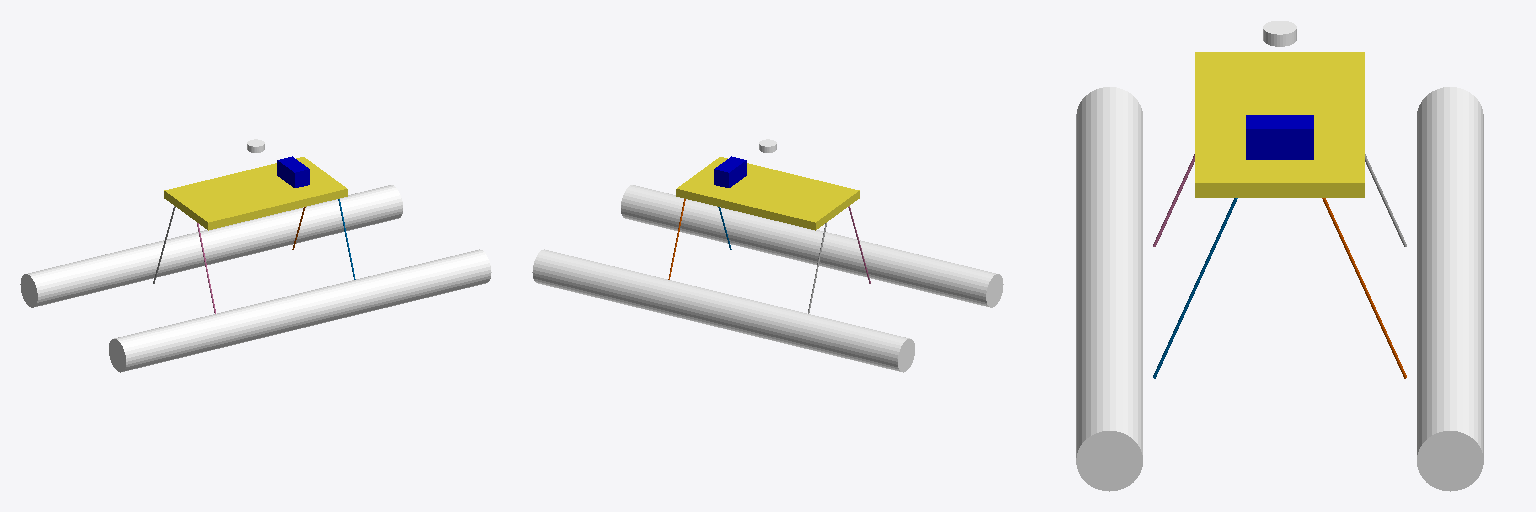
--- What the picture shows (computed from the rendered views, not written in the file) ---
3 views of the same robot in one strip: view 1: azimuth 30°, elevation 25°; view 2: azimuth 150°, elevation 25°; view 3: azimuth 270°, elevation 25° (orthographic).
Model robotx with 21 links and 20 joints (20 fixed), rooted at base_link, posed every joint at zero.
Links seen in each view (by area): view 1: left_bouy_link, right_bouy_link, shelf_link, sensor_box_link; view 2: right_bouy_link, left_bouy_link, shelf_link, sensor_box_link; view 3: left_bouy_link, right_bouy_link, shelf_link, sensor_box_link, gps_link, front_left_bar_link, front_right_bar_link.
Link boxes in pixels (box(x1,y1,x2,y2)): left_bouy_link: box(109, 249, 491, 372); right_bouy_link: box(20, 185, 402, 307); shelf_link: box(164, 157, 347, 230); sensor_box_link: box(277, 156, 309, 187); right_bouy_link: box(532, 249, 914, 372); left_bouy_link: box(621, 185, 1003, 307); shelf_link: box(676, 157, 859, 230); sensor_box_link: box(714, 156, 746, 187); left_bouy_link: box(1076, 87, 1142, 491); right_bouy_link: box(1417, 87, 1483, 491); shelf_link: box(1195, 52, 1364, 197); sensor_box_link: box(1246, 115, 1313, 159); gps_link: box(1263, 21, 1296, 46); front_left_bar_link: box(1153, 198, 1237, 378); front_right_bar_link: box(1322, 198, 1406, 378).
Size in the robot's own frame: 4.85 by 2.43 by 1.92 metres.
Meshes: 1 distinct files referenced, 0 mesh visuals loaded (none loaded); not drawn: 6 (reference not matched to a file when rendering).

URDF robot description (robotx):
<?xml version="1.0" ?>
<!-- =================================================================================== -->
<!-- |    This document was autogenerated by xacro from robotx_standard.urdf.xacro     | -->
<!-- |    EDITING THIS FILE BY HAND IS NOT RECOMMENDED                                 | -->
<!-- =================================================================================== -->
<!-- Revolute-Revolute Manipulator -->
<robot name="robotx" xmlns:xacro="http://ros.org/wiki/xacro">
  <!-- Constants for robot dimensions -->
  <!-- Import all Gazebo-customization elements, including Gazebo colors -->
  <material name="black">
    <color rgba="0.0 0.0 0.0 1.0"/>
  </material>
  <material name="blue">
    <color rgba="0.0 0.0 0.8 1.0"/>
  </material>
  <material name="green">
    <color rgba="0.0 0.8 0.0 1.0"/>
  </material>
  <material name="gray">
    <color rgba="0.2 0.2 0.2 1.0"/>
  </material>
  <material name="grey">
    <color rgba="0.2 0.2 0.2 1.0"/>
  </material>
  <material name="orange">
    <color rgba="1.0 0.423529411765 0.0392156862745 1.0"/>
  </material>
  <material name="brown">
    <color rgba="0.870588235294 0.811764705882 0.764705882353 1.0"/>
  </material>
  <material name="red">
    <color rgba="0.8 0.0 0.0 1.0"/>
  </material>
  <material name="white">
    <color rgba="1.0 1.0 1.0 1.0"/>
  </material>
  <!-- Constants for robot dimensions -->
  <!-- Import all Gazebo-customization elements, including Gazebo colors -->
  <!--xacro:include filename="materials.xacro" /-->
  <!-- macro for bouys -->
  <!-- support bars -->
  <!-- Base Link -->
  <link name="base_link">
    <collision>
      <origin rpy="0 0 0" xyz="0 0 0"/>
      <geometry>
        <box size="4.85 2.43 0.01"/>
      </geometry>
    </collision>
  </link>
  <!-- left bouy joint -->
  <joint name="left_bouy_joint" type="fixed">
    <parent link="base_link"/>
    <child link="left_bouy_link"/>
    <origin rpy="0 0 0" xyz="0 -1.015 0.2"/>
  </joint>
  <!-- left bouy Link -->
  <link name="left_bouy_link">
    <collision>
      <origin rpy="0 1.57079632679 0" xyz="0 0 0"/>
      <geometry>
        <cylinder length="4.85" radius="0.2"/>
      </geometry>
    </collision>
    <visual>
      <origin rpy="0 1.57079632679  0" xyz="0 0 0"/>
      <geometry>
        <cylinder length="4.85" radius="0.2"/>
      </geometry>
      <material name="white"/>
    </visual>
    <inertial>
      <mass value="35"/>
      <inertia ixx="69.2731666667" ixy="0.0" ixz="0.0" iyy="69.2731666667" iyz="0.0" izz="0.665875"/>
    </inertial>
  </link>
  <!-- right bouy joint -->
  <joint name="right_bouy_joint" type="fixed">
    <parent link="base_link"/>
    <child link="right_bouy_link"/>
    <origin rpy="0 0 0" xyz="0 1.015 0.2"/>
  </joint>
  <!-- right bouy Link -->
  <link name="right_bouy_link">
    <collision>
      <origin rpy="0 1.57079632679 0" xyz="0 0 0"/>
      <geometry>
        <cylinder length="4.85" radius="0.2"/>
      </geometry>
    </collision>
    <visual>
      <origin rpy="0 1.57079632679  0" xyz="0 0 0"/>
      <geometry>
        <cylinder length="4.85" radius="0.2"/>
      </geometry>
      <material name="white"/>
    </visual>
    <inertial>
      <mass value="35"/>
      <inertia ixx="69.2731666667" ixy="0.0" ixz="0.0" iyy="69.2731666667" iyz="0.0" izz="0.665875"/>
    </inertial>
  </link>
  <!-- platform joint-->
  <joint name="shelf_joint" type="fixed">
    <parent link="base_link"/>
    <child link="shelf_link"/>
    <origin rpy="0 0 0" xyz="0 0 1.28"/>
  </joint>
  <!-- platform -->
  <link name="shelf_link">
    <collision>
      <origin rpy="0 0 0" xyz="0 0 0"/>
      <geometry>
        <box size="1.85 1.01 0.1"/>
      </geometry>
    </collision>
    <visual>
      <origin rpy="0 0 0" xyz="0 0 0"/>
      <geometry>
        <box size="1.85 1.01 0.1"/>
      </geometry>
      <material name="yellow"/>
    </visual>
    <inertial>
      <origin rpy="0 0 0" xyz="0 0 0"/>
      <mass value="84"/>
      <inertia ixx="24.0275" ixy="0.0" ixz="0.0" iyy="31.0982" iyz="0.0" izz="7.2107"/>
    </inertial>
  </link>
  <!-- bars -->
  <joint name="front_left_bar_joint" type="fixed">
    <parent link="shelf_link"/>
    <child link="front_left_bar_link"/>
    <origin rpy="0 0 0" xyz="0 0 -0.64"/>
  </joint>
  <link name="front_left_bar_link">
    <collision>
      <origin rpy="-0.392699081699 0 0" xyz="0.925 -0.505 0"/>
      <geometry>
        <cylinder length="1.28" radius="0.01"/>
      </geometry>
    </collision>
    <visual>
      <origin rpy="-0.392699081699 0 0" xyz="0.925 -0.505 0"/>
      <geometry>
        <cylinder length="1.28" radius="0.01"/>
      </geometry>
    </visual>
  </link>
  <joint name="front_right_bar_joint" type="fixed">
    <parent link="shelf_link"/>
    <child link="front_right_bar_link"/>
    <origin rpy="0 0 0" xyz="0 0 -0.64"/>
  </joint>
  <link name="front_right_bar_link">
    <collision>
      <origin rpy="0.392699081699 0 0" xyz="0.925 0.505 0"/>
      <geometry>
        <cylinder length="1.28" radius="0.01"/>
      </geometry>
    </collision>
    <visual>
      <origin rpy="0.392699081699 0 0" xyz="0.925 0.505 0"/>
      <geometry>
        <cylinder length="1.28" radius="0.01"/>
      </geometry>
    </visual>
  </link>
  <joint name="rear_left_bar_joint" type="fixed">
    <parent link="shelf_link"/>
    <child link="rear_left_bar_link"/>
    <origin rpy="0 0 0" xyz="0 0 -0.64"/>
  </joint>
  <link name="rear_left_bar_link">
    <collision>
      <origin rpy="-0.392699081699 0 0" xyz="-0.925 -0.505 0"/>
      <geometry>
        <cylinder length="1.28" radius="0.01"/>
      </geometry>
    </collision>
    <visual>
      <origin rpy="-0.392699081699 0 0" xyz="-0.925 -0.505 0"/>
      <geometry>
        <cylinder length="1.28" radius="0.01"/>
      </geometry>
    </visual>
  </link>
  <joint name="rear_right_bar_joint" type="fixed">
    <parent link="shelf_link"/>
    <child link="rear_right_bar_link"/>
    <origin rpy="0 0 0" xyz="0 0 -0.64"/>
  </joint>
  <link name="rear_right_bar_link">
    <collision>
      <origin rpy="0.392699081699 0 0" xyz="-0.925 0.505 0"/>
      <geometry>
        <cylinder length="1.28" radius="0.01"/>
      </geometry>
    </collision>
    <visual>
      <origin rpy="0.392699081699 0 0" xyz="-0.925 0.505 0"/>
      <geometry>
        <cylinder length="1.28" radius="0.01"/>
      </geometry>
    </visual>
  </link>
  <!-- sensor box joint-->
  <joint name="sensor_box_joint" type="fixed">
    <parent link="shelf_link"/>
    <child link="sensor_box_link"/>
    <origin rpy="0 0 0" xyz="0.5 0 0.15"/>
  </joint>
  <!-- sensor box -->
  <link name="sensor_box_link">
    <collision>
      <origin rpy="0 0 0" xyz="0 0 0"/>
      <geometry>
        <box size="0.2 0.4 0.2"/>
      </geometry>
    </collision>
    <visual>
      <origin rpy="0 0 0" xyz="0 0 0"/>
      <geometry>
        <box size="0.2 0.4 0.2"/>
      </geometry>
      <material name="blue"/>
    </visual>
    <inertial>
      <origin rpy="0 0 0" xyz="0 0 0"/>
      <mass value="0.5"/>
      <inertia ixx="0.00333333333333" ixy="0.0" ixz="0.0" iyy="0.00833333333333" iyz="0.0" izz="0.00833333333333"/>
    </inertial>
  </link>
  <gazebo>
    <plugin filename="libgazebo_ros_planar_move.so" name="object_controller">
      <commandTopic>cmd_vel</commandTopic>
      <odometryTopic>odom/gazebo</odometryTopic>
      <odometryFrame>odom</odometryFrame>
      <odometryRate>20.0</odometryRate>
      <robotBaseFrame>base_link</robotBaseFrame>
    </plugin>
  </gazebo>
  <!-- base_link -->
  <gazebo reference="base_link">
    <material>Gazebo/Green</material>
    <turnGravityOff>false</turnGravityOff>
  </gazebo>
  <gazebo reference="left_bouy_link">
    <material>Gazebo/Grey</material>
  </gazebo>
  <gazebo reference="right_bouy_link">
    <material>Gazebo/Grey</material>
  </gazebo>
  <gazebo reference="shelf_link">
    <material>Gazebo/Black</material>
  </gazebo>
  <!-- sensor box -->
  <gazebo reference="sensor_box_link">
    <material>Gazebo/Yellow</material>
  </gazebo>
  <!-- camera array joint -->
  <!-- Set up camera linkage and configuration -->
  <joint name="gps_joint" type="fixed">
    <origin rpy="0 0 0" xyz="0 0 0.6"/>
    <parent link="shelf_link"/>
    <child link="gps_link"/>
  </joint>
  <link name="gps_link">
    <visual>
      <origin rpy="0 0 0" xyz="0 0 0"/>
      <geometry>
        <cylinder length="0.08" radius="0.1"/>
      </geometry>
      <material name="white"/>
    </visual>
    <collision>
      <origin rpy="0 0 0" xyz="0 0 0"/>
      <geometry>
        <cylinder length="0.08" radius="0.1"/>
      </geometry>
    </collision>
  </link>
  <joint name="imu_array_joint" type="fixed">
    <origin rpy="0 0 0" xyz="0 0 0"/>
    <parent link="shelf_link"/>
    <child link="imu_array_link"/>
  </joint>
  <link name="imu_array_link"/>
  <joint name="middle_middle_imu_joint" type="fixed">
    <origin rpy="0 0 0" xyz="0 0 0.05"/>
    <parent link="imu_array_link"/>
    <child link="middle_middle_imu_link"/>
  </joint>
  <link name="middle_middle_imu_link"/>
  <!--xacro:imu position1="front" position2="left" x="${shelf_length/2}" y="-${shelf_width/2}" />
    <xacro:imu position1="front" position2="right" x="${shelf_length/2}" y="-${shelf_width/2}" />
    <xacro:imu position1="rear" position2="left" x="${shelf_length/2}" y="-${shelf_width/2}" />
    <xacro:imu position1="rear" position2="right" x="${shelf_length/2}" y="-${shelf_width/2}" /-->
  <joint name="bow_camera_array_joint" type="fixed">
    <origin rpy="0 0 0" xyz="0 0 0"/>
    <parent link="shelf_link"/>
    <child link="bow_stereo/camera_link"/>
  </joint>
  <link name="bow_stereo/camera_link"/>
  <joint name="port_camera_array_joint" type="fixed">
    <origin rpy="0 0 0" xyz="0 0 0"/>
    <parent link="shelf_link"/>
    <child link="port_stereo/camera_link"/>
  </joint>
  <link name="port_stereo/camera_link"/>
  <joint name="starboard_camera_array_joint" type="fixed">
    <origin rpy="0 0 0" xyz="0 0 0"/>
    <parent link="shelf_link"/>
    <child link="starboard_stereo/camera_link"/>
  </joint>
  <link name="starboard_stereo/camera_link"/>
  <joint name="bow_left_camera_joint" type="fixed">
    <origin rpy="0 0 0" xyz="0.925 -0.505 0.55"/>
    <parent link="bow_stereo/camera_link"/>
    <child link="bow_stereo/left/camera_link"/>
  </joint>
  <link name="bow_stereo/left/camera_link">
    <visual>
      <origin rpy="0 0 0" xyz="0 0 0"/>
      <geometry>
        <mesh filename="package://hector_sensors_description/meshes/thermaleye_camera/thermaleye_camera_hector_v2.dae"/>
      </geometry>
    </visual>
    <collision>
      <origin rpy="0 0 0" xyz="0 0 0"/>
      <geometry>
        <mesh filename="package://hector_sensors_description/meshes/thermaleye_camera/thermaleye_camera_hector_v2.stl"/>
      </geometry>
    </collision>
  </link>
  <joint name="bow_right_camera_joint" type="fixed">
    <origin rpy="0 0 0" xyz="0.925 0.505 0.55"/>
    <parent link="bow_stereo/camera_link"/>
    <child link="bow_stereo/right/camera_link"/>
  </joint>
  <link name="bow_stereo/right/camera_link">
    <visual>
      <origin rpy="0 0 0" xyz="0 0 0"/>
      <geometry>
        <mesh filename="package://hector_sensors_description/meshes/thermaleye_camera/thermaleye_camera_hector_v2.dae"/>
      </geometry>
    </visual>
    <collision>
      <origin rpy="0 0 0" xyz="0 0 0"/>
      <geometry>
        <mesh filename="package://hector_sensors_description/meshes/thermaleye_camera/thermaleye_camera_hector_v2.stl"/>
      </geometry>
    </collision>
  </link>
  <joint name="port_left_camera_joint" type="fixed">
    <origin rpy="0 0 -1.57079632679" xyz="-0.925 -0.505 0.15"/>
    <parent link="port_stereo/camera_link"/>
    <child link="port_stereo/left/camera_link"/>
  </joint>
  <link name="port_stereo/left/camera_link">
    <visual>
      <origin rpy="0 0 0" xyz="0 0 0"/>
      <geometry>
        <mesh filename="package://hector_sensors_description/meshes/thermaleye_camera/thermaleye_camera_hector_v2.dae"/>
      </geometry>
    </visual>
    <collision>
      <origin rpy="0 0 0" xyz="0 0 0"/>
      <geometry>
        <mesh filename="package://hector_sensors_description/meshes/thermaleye_camera/thermaleye_camera_hector_v2.stl"/>
      </geometry>
    </collision>
  </link>
  <joint name="port_right_camera_joint" type="fixed">
    <origin rpy="0 0 -1.57079632679" xyz="0.925 -0.505 0.15"/>
    <parent link="port_stereo/camera_link"/>
    <child link="port_stereo/right/camera_link"/>
  </joint>
  <link name="port_stereo/right/camera_link">
    <visual>
      <origin rpy="0 0 0" xyz="0 0 0"/>
      <geometry>
        <mesh filename="package://hector_sensors_description/meshes/thermaleye_camera/thermaleye_camera_hector_v2.dae"/>
      </geometry>
    </visual>
    <collision>
      <origin rpy="0 0 0" xyz="0 0 0"/>
      <geometry>
        <mesh filename="package://hector_sensors_description/meshes/thermaleye_camera/thermaleye_camera_hector_v2.stl"/>
      </geometry>
    </collision>
  </link>
  <joint name="starboard_left_camera_joint" type="fixed">
    <origin rpy="0 0 1.57079632679" xyz="0.925 0.505 0.15"/>
    <parent link="starboard_stereo/camera_link"/>
    <child link="starboard_stereo/left/camera_link"/>
  </joint>
  <link name="starboard_stereo/left/camera_link">
    <visual>
      <origin rpy="0 0 0" xyz="0 0 0"/>
      <geometry>
        <mesh filename="package://hector_sensors_description/meshes/thermaleye_camera/thermaleye_camera_hector_v2.dae"/>
      </geometry>
    </visual>
    <collision>
      <origin rpy="0 0 0" xyz="0 0 0"/>
      <geometry>
        <mesh filename="package://hector_sensors_description/meshes/thermaleye_camera/thermaleye_camera_hector_v2.stl"/>
      </geometry>
    </collision>
  </link>
  <joint name="starboard_right_camera_joint" type="fixed">
    <origin rpy="0 0 1.57079632679" xyz="-0.925 0.505 0.15"/>
    <parent link="starboard_stereo/camera_link"/>
    <child link="starboard_stereo/right/camera_link"/>
  </joint>
  <link name="starboard_stereo/right/camera_link">
    <visual>
      <origin rpy="0 0 0" xyz="0 0 0"/>
      <geometry>
        <mesh filename="package://hector_sensors_description/meshes/thermaleye_camera/thermaleye_camera_hector_v2.dae"/>
      </geometry>
    </visual>
    <collision>
      <origin rpy="0 0 0" xyz="0 0 0"/>
      <geometry>
        <mesh filename="package://hector_sensors_description/meshes/thermaleye_camera/thermaleye_camera_hector_v2.stl"/>
      </geometry>
    </collision>
  </link>
  <!--kinect camera >
    <joint name="kinect_camera_joint" type="fixed">
        <origin xyz="0 0 0.35" rpy="0 0 0" />
        <parent link="base_link"/>
        <child link="kinect_camera_link"/>
    </joint>

    <xacro:if value="$(arg kinect_enabled)" >
        <link name="kinect_camera_link">
            <inertial>
                <mass value="0.01" />
                <origin xyz="0 0 0" rpy="0 0 0"/>
                <inertia ixx="2.632e-4" ixy="0" ixz="0" iyy="2.632e-4" iyz="0" izz="1.62e-4" />
            </inertial>
            <visual>
                <origin xyz="0 0 0" rpy="0 0 0" />
                <geometry>
                    <mesh filename="package://hector_sensors_description/meshes/kinect_camera/kinect_camera_simple.dae"/>
                </geometry>
            </visual>
            <collision>
                <origin xyz="0 0 0" rpy="0 0 0" />
                <geometry>
                    <mesh filename="package://hector_sensors_description/meshes/kinect_camera/kinect_camera_simple.stl"/>
                </geometry>
            </collision>
        </link>

        <joint name="kinect_camera_depth_joint" type="fixed">
            <origin xyz="0.0 -0.01 0.0" rpy="0 0 0" />
            <parent link="kinect_camera_link" />
            <child link="kinect_camera_depth_frame"/>
        </joint>

        <link name="kinect_camera_depth_frame"/>

        <joint name="kinect_camera_depth_optical_joint" type="fixed">
            <origin xyz="0 0 0" rpy="${-M_PI/2} 0.0 ${-M_PI/2}" />
            <parent link="kinect_camera_depth_frame" />
            <child link="kinect_camera_depth_optical_frame"/>
        </joint>

        <link name="kinect_camera_depth_optical_frame"/>

        <joint name="kinect_camera_rgb_joint" type="fixed">
            <origin xyz="0.0 -0.0125 0.0" rpy="0 0 0" />
            <parent link="kinect_camera_link" />
            <child link="kinect_camera_rgb_frame"/>
        </joint>

        <link name="kinect_camera_rgb_frame"/>

        <joint name="kinect_camera_rgb_optical_joint" type="fixed">
            <origin xyz="0 0 0" rpy="${-M_PI/2} 0.0 ${-M_PI/2}" />
            <parent link="kinect_camera_rgb_frame" />
            <child link="kinect_camera_rgb_optical_frame"/>
        </joint>

        <link name="kinect_camera_rgb_optical_frame"/>
    </xacro:if -->
  <!-- Set up sonar linkage and configuration >
    <xacro:if value="$(arg sonar_enabled)" >
        <joint name="base_link_sonar_link_joint" type="fixed">
            <origin xyz="0 0 -0.05" rpy="0 ${M_PI/2} 0" />
            <parent link="base_link"/>
            <child link="sonar_link" />
        </joint>

        <link name="sonar_link">
            <inertial>
                <mass value="1"/>
                <origin xyz="0 0 0"/>
                <inertia ixx="0.1" ixy="0.0" ixz="0.0" iyy="0.1" iyz="0.0" izz="0.1"/>
            </inertial>
            <visual>
                <origin xyz="0 0 0" rpy="0 0 0" />
                <geometry>
                    <mesh filename="package://hector_sensors_description/meshes/sonar_sensor/max_sonar_ez4.dae"/>
                </geometry>
            </visual>
            <collision>
                <origin xyz="0 0 0" rpy="0 0 0" />
                <geometry>
                    <box size="0.02 0.02 0.02" />
                </geometry>
            </collision>
        </link>
    </xacro:if -->
  <!-- Hokuyo Laser >
    <xacro:if value="$(arg lidar_enabled)">
        <joint name="hokuyo_joint" type="fixed">
            <origin xyz="0.2 0.0 0.2" rpy="0 0 0"/>
            <parent link="base_link"/>
            <child link="hokuyo_link"/>
        </joint>

        <link name="hokuyo_link">
            <collision>
                <origin xyz="0 0 -0.0115" rpy="0 0 0"/>
                <geometry>
                    <box size="0.058 0.058 0.087"/>
                </geometry>
            </collision>

            <visual>
                <origin xyz="0 0 0" rpy="0 0 0"/>
                <geometry>
                    <mesh filename="package://hector_sensors_description/meshes/hokuyo_utm30lx/hokuyo_utm_30lx.dae"/>
                </geometry>
            </visual>

            <inertial>
                <mass value="0.27" />
                <origin xyz="0 0 0" rpy="0 0 0"/>
                <inertia ixx="2.632e-4" ixy="0" ixz="0" iyy="2.632e-4" iyz="0" izz="1.62e-4" />
            </inertial>
        </link>
    </xacro:if-->
  <!-- Set up imu configuration -->
  <!-- Set up camera configuration -->
  <gazebo>
    <plugin filename="libhector_gazebo_ros_imu.so" name="imu">
      <robotNamespace>middle_middle_imu</robotNamespace>
      <updateRate>20.0</updateRate>
      <frameId>middle_middle_imu_link</frameId>
      <bodyName>shelf_link</bodyName>
      <topicName>imu/data</topicName>
      <serviceName>imu</serviceName>
      <xyzOffset>0 0 0</xyzOffset>
      <rpyOffset>0 0 0</rpyOffset>
      <gaussianNoise>0</gaussianNoise>
      <accelDrift>0.5 0.5 0.5</accelDrift>
      <accelGaussianNoise>0.35 0.35 0.3</accelGaussianNoise>
      <rateDrift>0.1 0.1 0.1</rateDrift>
      <rateGaussianNoise>0.05 0.05 0.015</rateGaussianNoise>
      <headingDrift>0.1</headingDrift>
      <headingGaussianNoise>0.05</headingGaussianNoise>
    </plugin>
  </gazebo>
  <!--xacro:imu_gazebo position1="front" position2="right" />
    <xacro:imu_gazebo position1="rear" position2="left" />
    <xacro:imu_gazebo position1="rear" position2="right" /-->
  <gazebo reference="bow_stereo/left/camera_link">
    <sensor name="bow_left_camera" type="camera">
      <update_rate>30.0</update_rate>
      <camera name="stereo_camera">
        <horizontal_fov>1.3962634</horizontal_fov>
        <image>
          <width>640</width>
          <height>480</height>
          <format>R8G8B8</format>
        </image>
        <clip>
          <near>0.02</near>
          <far>300</far>
        </clip>
        <noise>
          <type>gaussian</type>
          <mean>0.0</mean>
          <stddev>0.007</stddev>
        </noise>
      </camera>
      <plugin filename="libgazebo_ros_camera.so" name="camera_controller">
        <robotNamespace>bow_stereo/left</robotNamespace>
        <alwaysOn>true</alwaysOn>
        <updateRate>30.0</updateRate>
        <cameraName>/</cameraName>
        <imageTopicName>image_raw</imageTopicName>
        <cameraInfoTopicName>camera_info</cameraInfoTopicName>
        <frameName>camera_link</frameName>
        <hackBaseline>0.07</hackBaseline>
        <distortionK1>0.0</distortionK1>
        <distortionK2>0.0</distortionK2>
        <distortionK3>0.0</distortionK3>
        <distortionT1>0.0</distortionT1>
        <distortionT2>0.0</distortionT2>
      </plugin>
    </sensor>
  </gazebo>
  <gazebo reference="bow_stereo/right/camera_link">
    <sensor name="bow_right_camera" type="camera">
      <update_rate>30.0</update_rate>
      <camera name="stereo_camera">
        <horizontal_fov>1.3962634</horizontal_fov>
        <image>
          <width>640</width>
          <height>480</height>
          <format>R8G8B8</format>
        </image>
        <clip>
          <near>0.02</near>
          <far>300</far>
        </clip>
        <noise>
          <type>gaussian</type>
          <mean>0.0</mean>
          <stddev>0.007</stddev>
        </noise>
      </camera>
      <plugin filename="libgazebo_ros_camera.so" name="camera_controller">
        <robotNamespace>bow_stereo/right</robotNamespace>
        <alwaysOn>true</alwaysOn>
        <updateRate>30.0</updateRate>
        <cameraName>/</cameraName>
        <imageTopicName>image_raw</imageTopicName>
        <cameraInfoTopicName>camera_info</cameraInfoTopicName>
        <frameName>camera_link</frameName>
        <hackBaseline>0.07</hackBaseline>
        <distortionK1>0.0</distortionK1>
        <distortionK2>0.0</distortionK2>
        <distortionK3>0.0</distortionK3>
        <distortionT1>0.0</distortionT1>
        <distortionT2>0.0</distortionT2>
      </plugin>
    </sensor>
  </gazebo>
  <gazebo reference="port_stereo/left/camera_link">
    <sensor name="port_left_camera" type="camera">
      <update_rate>30.0</update_rate>
      <camera name="stereo_camera">
        <horizontal_fov>1.3962634</horizontal_fov>
        <image>
          <width>640</width>
          <height>480</height>
          <format>R8G8B8</format>
        </image>
        <clip>
          <near>0.02</near>
          <far>300</far>
        </clip>
        <noise>
          <type>gaussian</type>
          <mean>0.0</mean>
          <stddev>0.007</stddev>
        </noise>
      </camera>
      <plugin filename="libgazebo_ros_camera.so" name="camera_controller">
        <robotNamespace>port_stereo/left</robotNamespace>
        <alwaysOn>true</alwaysOn>
        <updateRate>30.0</updateRate>
        <cameraName>/</cameraName>
        <imageTopicName>image_raw</imageTopicName>
        <cameraInfoTopicName>camera_info</cameraInfoTopicName>
        <frameName>camera_link</frameName>
        <hackBaseline>0.07</hackBaseline>
        <distortionK1>0.0</distortionK1>
        <distortionK2>0.0</distortionK2>
        <distortionK3>0.0</distortionK3>
        <distortionT1>0.0</distortionT1>
        <distortionT2>0.0</distortionT2>
      </plugin>
    </sensor>
  </gazebo>
  <gazebo reference="port_stereo/right/camera_link">
    <sensor name="port_right_camera" type="camera">
      <update_rate>30.0</update_rate>
      <camera name="stereo_camera">
        <horizontal_fov>1.3962634</horizontal_fov>
        <image>
          <width>640</width>
          <height>480</height>
          <format>R8G8B8</format>
        </image>
        <clip>
          <near>0.02</near>
          <far>300</far>
        </clip>
        <noise>
          <type>gaussian</type>
          <mean>0.0</mean>
          <stddev>0.007</stddev>
        </noise>
      </camera>
      <plugin filename="libgazebo_ros_camera.so" name="camera_controller">
        <robotNamespace>port_stereo/right</robotNamespace>
        <alwaysOn>true</alwaysOn>
        <updateRate>30.0</updateRate>
        <cameraName>/</cameraName>
        <imageTopicName>image_raw</imageTopicName>
        <cameraInfoTopicName>camera_info</cameraInfoTopicName>
        <frameName>camera_link</frameName>
        <hackBaseline>0.07</hackBaseline>
        <distortionK1>0.0</distortionK1>
        <distortionK2>0.0</distortionK2>
        <distortionK3>0.0</distortionK3>
        <distortionT1>0.0</distortionT1>
        <distortionT2>0.0</distortionT2>
      </plugin>
    </sensor>
  </gazebo>
  <gazebo reference="starboard_stereo/left/camera_link">
    <sensor name="starboard_left_camera" type="camera">
      <update_rate>30.0</update_rate>
      <camera name="stereo_camera">
        <horizontal_fov>1.3962634</horizontal_fov>
        <image>
          <width>640</width>
          <height>480</height>
          <format>R8G8B8</format>
        </image>
        <clip>
          <near>0.02</near>
          <far>300</far>
        </clip>
        <noise>
          <type>gaussian</type>
          <mean>0.0</mean>
          <stddev>0.007</stddev>
        </noise>
      </camera>
      <plugin filename="libgazebo_ros_camera.so" name="camera_controller">
        <robotNamespace>starboard_stereo/left</robotNamespace>
        <alwaysOn>true</alwaysOn>
        <updateRate>30.0</updateRate>
        <cameraName>/</cameraName>
        <imageTopicName>image_raw</imageTopicName>
        <cameraInfoTopicName>camera_info</cameraInfoTopicName>
        <frameName>camera_link</frameName>
        <hackBaseline>0.07</hackBaseline>
        <distortionK1>0.0</distortionK1>
        <distortionK2>0.0</distortionK2>
        <distortionK3>0.0</distortionK3>
        <distortionT1>0.0</distortionT1>
        <distortionT2>0.0</distortionT2>
      </plugin>
    </sensor>
  </gazebo>
  <gazebo reference="starboard_stereo/right/camera_link">
    <sensor name="starboard_right_camera" type="camera">
      <update_rate>30.0</update_rate>
      <camera name="stereo_camera">
        <horizontal_fov>1.3962634</horizontal_fov>
        <image>
          <width>640</width>
          <height>480</height>
          <format>R8G8B8</format>
        </image>
        <clip>
          <near>0.02</near>
          <far>300</far>
        </clip>
        <noise>
          <type>gaussian</type>
          <mean>0.0</mean>
          <stddev>0.007</stddev>
        </noise>
      </camera>
      <plugin filename="libgazebo_ros_camera.so" name="camera_controller">
        <robotNamespace>starboard_stereo/right</robotNamespace>
        <alwaysOn>true</alwaysOn>
        <updateRate>30.0</updateRate>
        <cameraName>/</cameraName>
        <imageTopicName>image_raw</imageTopicName>
        <cameraInfoTopicName>camera_info</cameraInfoTopicName>
        <frameName>camera_link</frameName>
        <hackBaseline>0.07</hackBaseline>
        <distortionK1>0.0</distortionK1>
        <distortionK2>0.0</distortionK2>
        <distortionK3>0.0</distortionK3>
        <distortionT1>0.0</distortionT1>
        <distortionT2>0.0</distortionT2>
      </plugin>
    </sensor>
  </gazebo>
  <!-- Set up gps configuration -->
  <gazebo>
    <plugin filename="libhector_gazebo_ros_gps.so" name="gps">
      <alwaysOn>true</alwaysOn>
      <updateRate>10.0</updateRate>
      <frameId>gps_link</frameId>
      <bodyName>shelf_link</bodyName>
      <topicName>navsat/fix</topicName>
      <velocityTopicName>navsat/vel</velocityTopicName>
      <!--referenceLatitude>49.9</referenceLatitude>
            <referenceLongitude>8.9</referenceLongitude-->
      <referenceLatitude>1.35012856</referenceLatitude>
      <referenceLongitude>103.687695</referenceLongitude>
      <referenceHeading>0</referenceHeading>
      <referenceAltitude>0</referenceAltitude>
      <drift>5.0 5.0 5.0</drift>
      <gaussianNoise>0.1 0.1 0.1</gaussianNoise>
      <velocityDrift>0 0 0</velocityDrift>
      <velocityGaussianNoise>0.1 0.1 0.1</velocityGaussianNoise>
    </plugin>
  </gazebo>
  <!-- Set up kinect configuration >
    <xacro:if value="$(arg kinect_enabled)">
        <gazebo reference="kinect_camera_depth_frame">
            <sensor type="depth" name="kinect_camera">
                <update_rate>20</update_rate>
                <camera>
                    <horizontal_fov>${60 * M_PI/180.0}</horizontal_fov>
                    <image>
                        <format>R8G8B8</format>
                        <width>640</width>
                        <height>480</height>
                    </image>
                    <clip>
                        <near>0.05</near>
                        <far>3</far>
                    </clip>
                </camera>
                <plugin name="kinect_camera_controller" filename="libgazebo_ros_openni_kinect.so">
                <cameraName>kinect_camera</cameraName>
                <imageTopicName>rgb/image_raw</imageTopicName>
                <cameraInfoTopicName>rgb/camera_info</cameraInfoTopicName>
                <depthImageTopicName>depth/image_raw</depthImageTopicName>
                <depthImageCameraInfoTopicName>depth/camera_info</depthImageCameraInfoTopicName>
                <pointCloudTopicName>depth/points</pointCloudTopicName>
                <pointCloudCutoff>0.05</pointCloudCutoff>
                <pointCloudCutoffMax>5</pointCloudCutoffMax>
                <frameName>kinect_camera_depth_optical_frame</frameName>
            </plugin>
        </sensor>
    </gazebo>
</xacro:if-->
  <!-- Set up sonar configuration >
    <xacro:if value="$(arg sonar_enabled)">
        <gazebo reference="sonar_link">
            <sensor type="ray" name="sonar_sensor">
                <pose>0 0 0 0 0 0</pose>
                <visualize>true</visualize>
                <update_rate>20</update_rate>
                <ray>
                    <scan>
                        <horizontal>
                            <samples>3</samples>
                            <resolution>1</resolution>
                            <min_angle>${-5*M_PI/180}</min_angle>
                            <max_angle>${5*M_PI/180}</max_angle>
                        </horizontal>
                    </scan>
                    <range>
                        <min>0.10</min>
                        <max>30.0</max>
                        <resolution>0.01</resolution>
                    </range>
                    <noise>
                    <type>gaussian</type>
                    <mean>0.0</mean>
                    <stddev>0.01</stddev>
                </noise>
            </ray>

            <plugin name="sonar_controller" filename="libhector_gazebo_ros_sonar.so">
            <gaussianNoise>0.005</gaussianNoise>
            <bodyName>base_link</bodyName>
            <topicName>sonar/data</topicName>
            <frameId>sonar_link</frameId>
            <offset>0</offset>
            <drift>0</drift>
            <driftFrequency>0</driftFrequency>
        </plugin>
    </sensor>
</gazebo>
</xacro:if-->
  <!-- Set up hokuyo configuration >
    <xacro:if value="$(arg lidar_enabled)">
        <gazebo reference="hokuyo_link">
            <sensor type="ray" name="head_hokuyo_sensor">
                <pose>0 0 0 0 0 0</pose>
                <always_on>true</always_on>
                <visualize>true</visualize>
                <update_rate>20</update_rate>
                <ray>
                    <scan>
                        <horizontal>
                            <samples>720</samples>
                            <resolution>1</resolution>
                            <min_angle>${-M_PI/2}</min_angle>
                            <max_angle>${M_PI/2}</max_angle>
                        </horizontal>
                    </scan>
                    <range>
                        <min>0.08</min>
                        <max>20</max>
                        <resolution>0.004</resolution>
                    </range>
                    <noise>
                        <type>gaussian</type>
                        <mean>0.0</mean>
                        <stddev>0.01</stddev>
                    </noise>
                </ray>

                <plugin name="gazebo_ros_hokuyo_utm30lx_model_controller" filename="libgazebo_ros_laser.so">
                <bodyName>base_link</bodyName>
                <topicName>laser/scan</topicName>
                <frameName>hokuyo_link</frameName>
            </plugin>
        </sensor>
    </gazebo>
</xacro:if-->
</robot>
